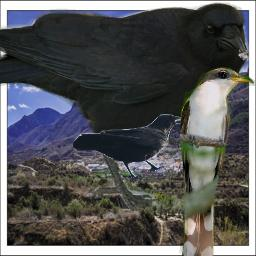Crow: (0, 2, 249, 211), (72, 114, 186, 181)
Cuckoo: (178, 66, 255, 256)
